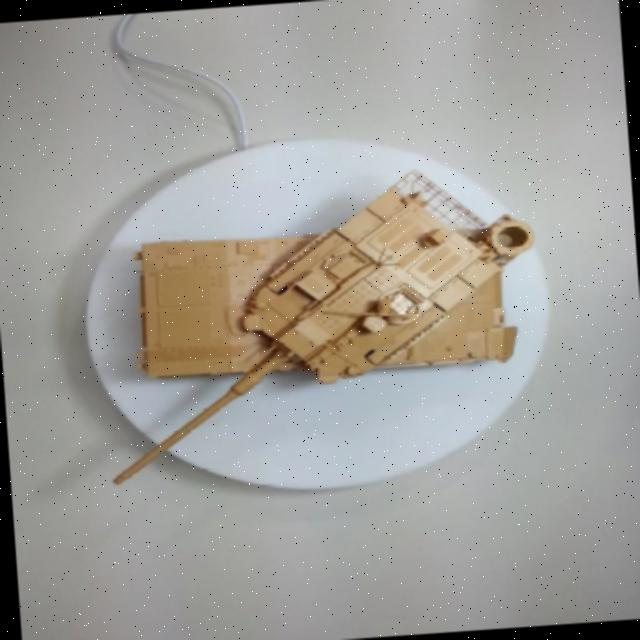korea tank: (19, 126, 578, 506)
